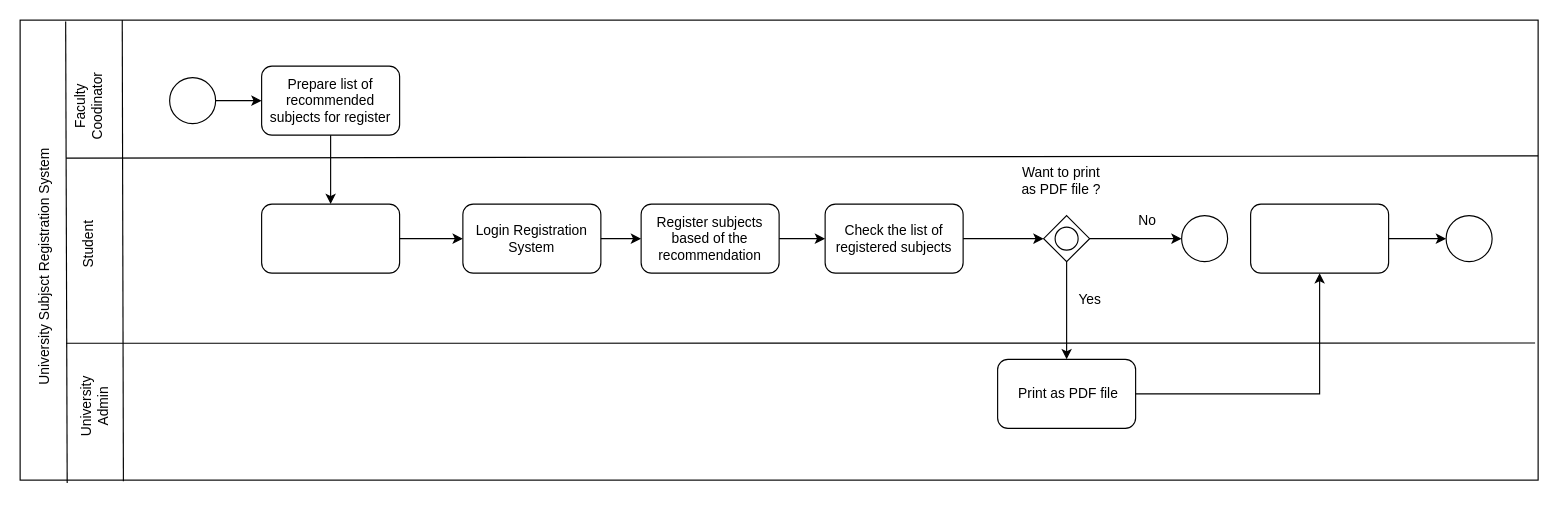
This 1559x505 diagram has some shape labels left out. The box of each missing label's shape, as (x1, y1, x2, y2) in pixels:
Accept the list of recommended subjects for register: (260, 203, 400, 273)
Download the PDF file: (1249, 203, 1389, 273)
